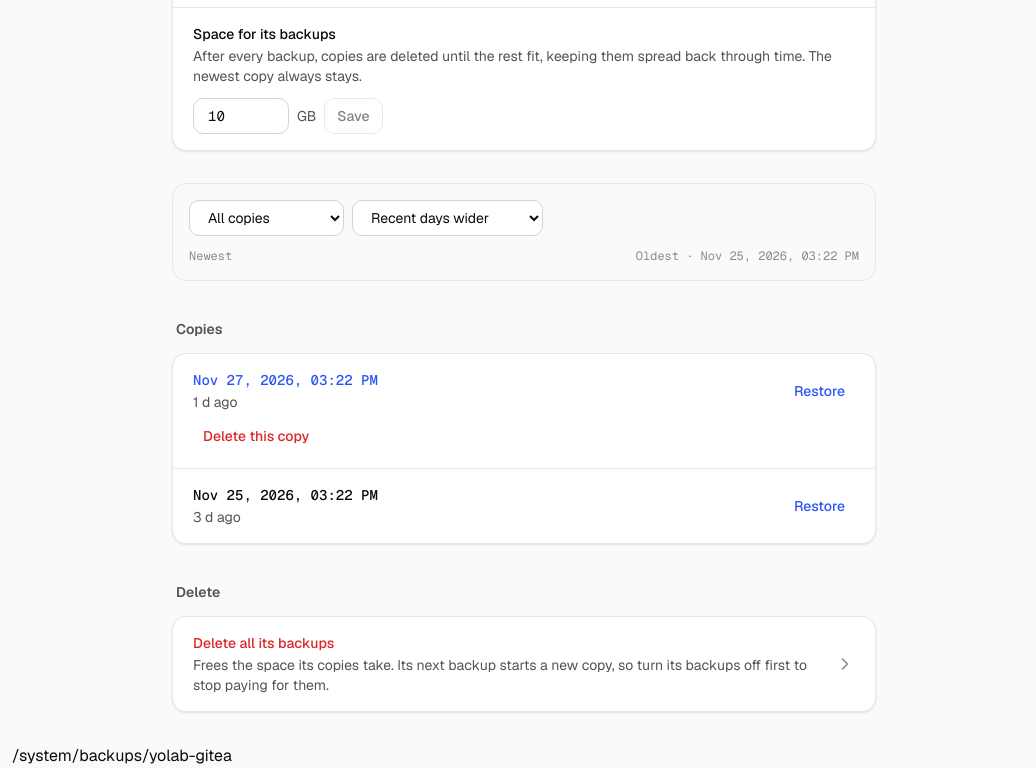
Test: BackupTimelinePage, a single copy › says why a copy could not be opened
The width and height of the screenshot is (1036, 768).
(page scrolled)
Click the button "Restore" in the row of "1 d ago". click: {"x": 820, "y": 391}
box: 784,375 -> 855,407
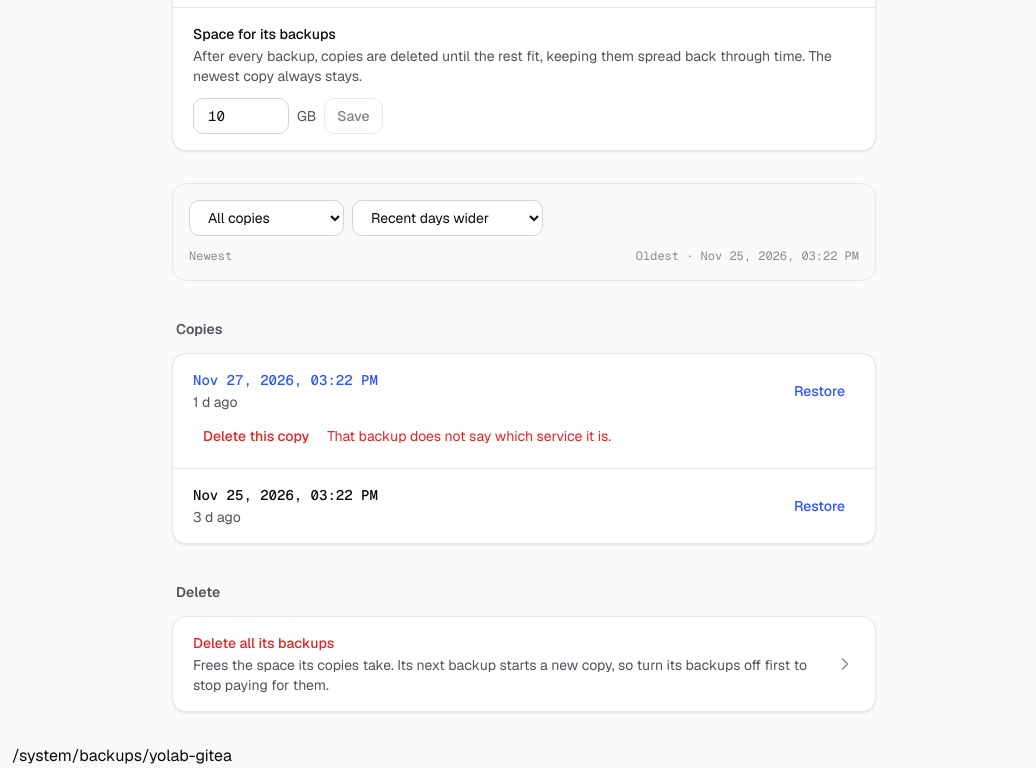
Result: the text "That backup does not say which service it is." is shown at 327,426 -> 611,446
Click the button "Restore" in the row of "1 d ago". click: {"x": 820, "y": 391}
box: 784,375 -> 855,407
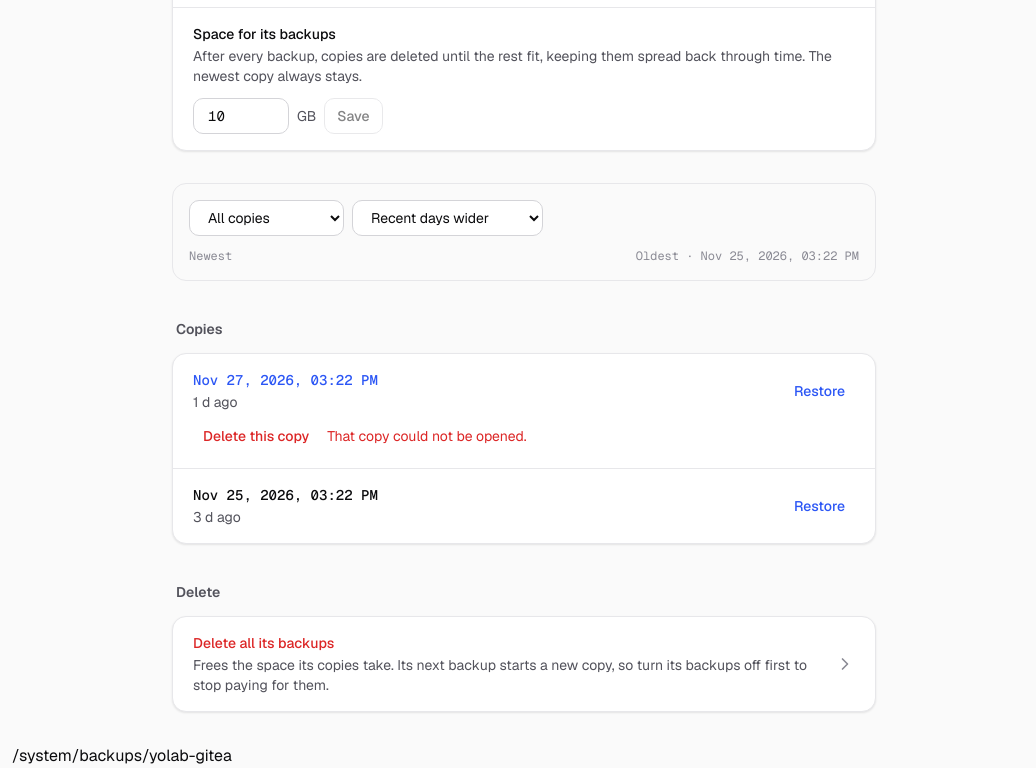
Result: the text "That copy could not be opened." is shown at 327,426 -> 527,446
